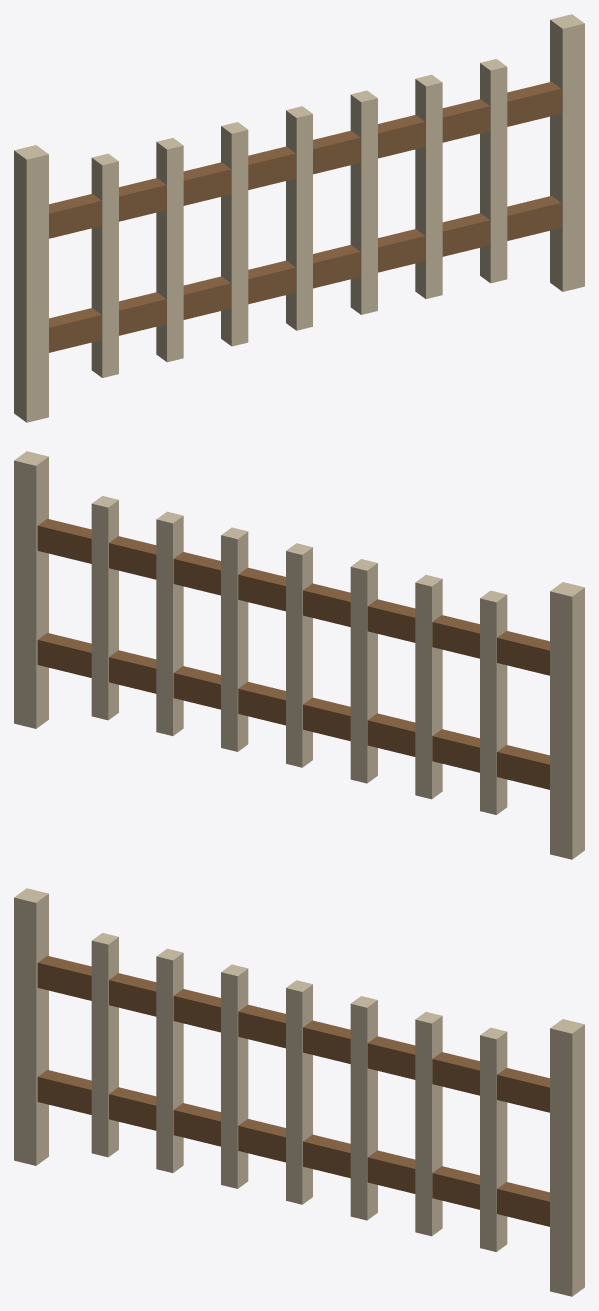
The model's file is fence-picket.glb.
3 renders of one model, top to bottom at view 1: azimuth 30°, elevation 25°; view 2: azimuth 150°, elevation 25°; view 3: azimuth 330°, elevation 25°, orthographic.
Parts seen in each view (by area): view 1: asset_root; view 2: asset_root; view 3: asset_root.
Part boxes in pixels (<box>): asset_root: <box>14,14,584,422</box>; asset_root: <box>14,451,584,859</box>; asset_root: <box>14,888,584,1296</box>.
Bounding box in the file's own units: 3.02 × 1.36 × 0.12.
